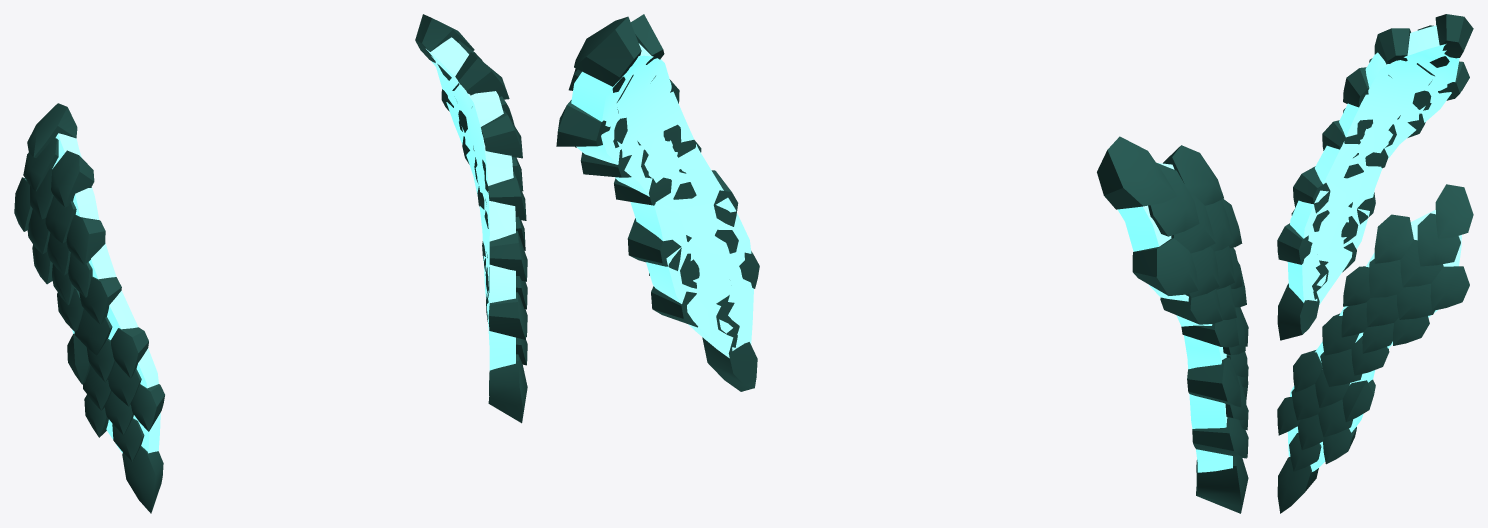
File: SerpentScalesSovereign.fbx
The picture shows the model from 3 angles, left to right: view 1: azimuth 30°, elevation 25°; view 2: azimuth 150°, elevation 25°; view 3: azimuth 270°, elevation 25°; orthographic projection. The views are drawn at different scales.
Parts seen in each view (by area): view 1: SerpentScalesSovereign_RightScales, SerpentScalesSovereign_LeftScales, SerpentScalesSovereign_LeftSeam, SerpentScalesSovereign_RightSeam; view 2: SerpentScalesSovereign_RightScales, SerpentScalesSovereign_LeftSeam, SerpentScalesSovereign_LeftScales, SerpentScalesSovereign_RightSeam; view 3: SerpentScalesSovereign_LeftScales, SerpentScalesSovereign_RightSeam, SerpentScalesSovereign_RightScales, SerpentScalesSovereign_LeftSeam.
Part boxes in pixels (x1,y1,x2,y2): SerpentScalesSovereign_RightScales: (14,103,164,513); SerpentScalesSovereign_LeftScales: (415,14,527,423); SerpentScalesSovereign_LeftSeam: (426,37,515,370); SerpentScalesSovereign_RightSeam: (25,133,160,453); SerpentScalesSovereign_RightScales: (1097,136,1248,513); SerpentScalesSovereign_LeftSeam: (571,43,753,358); SerpentScalesSovereign_LeftScales: (556,14,759,391); SerpentScalesSovereign_RightSeam: (1117,163,1232,472); SerpentScalesSovereign_LeftScales: (1277,184,1473,513); SerpentScalesSovereign_RightSeam: (1287,25,1459,304); SerpentScalesSovereign_RightScales: (1277,14,1473,340); SerpentScalesSovereign_LeftSeam: (1287,210,1461,471).
Bounding box in the file's own units: 1.28 × 0.8941 × 0.4848.
